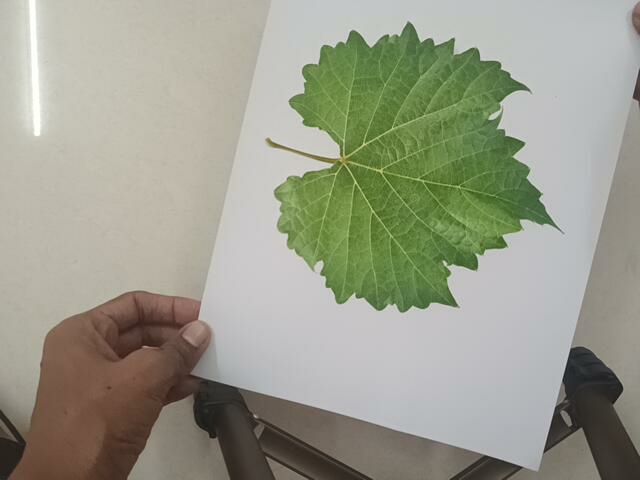Grape_Healthy: (267, 18, 571, 311)
